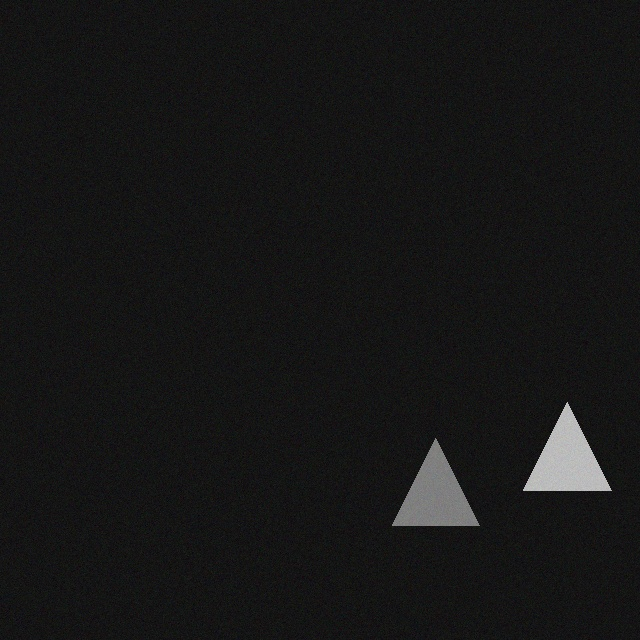triangle: (523, 397, 611, 485), (392, 433, 479, 520)
